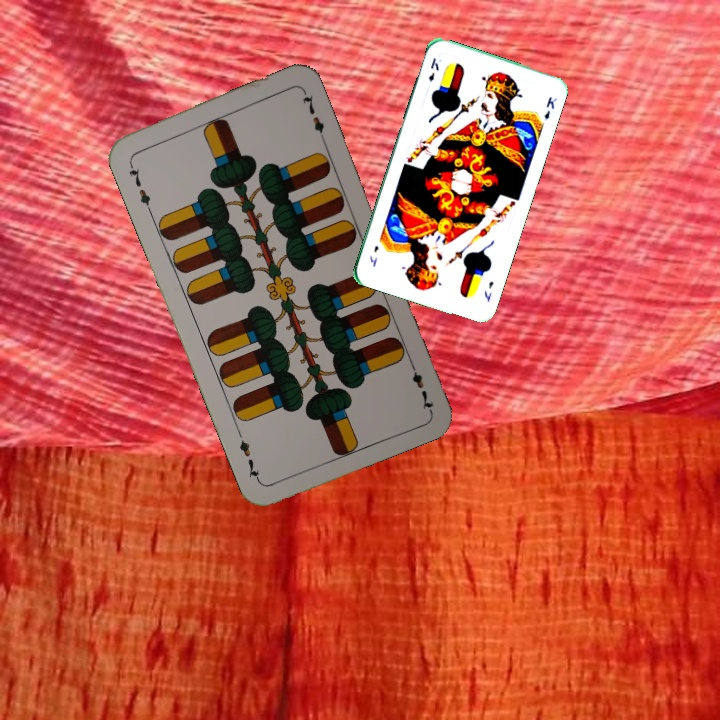E7: (405, 357, 436, 413), (124, 157, 154, 214)
EK: (424, 54, 441, 85), (480, 277, 496, 304)
